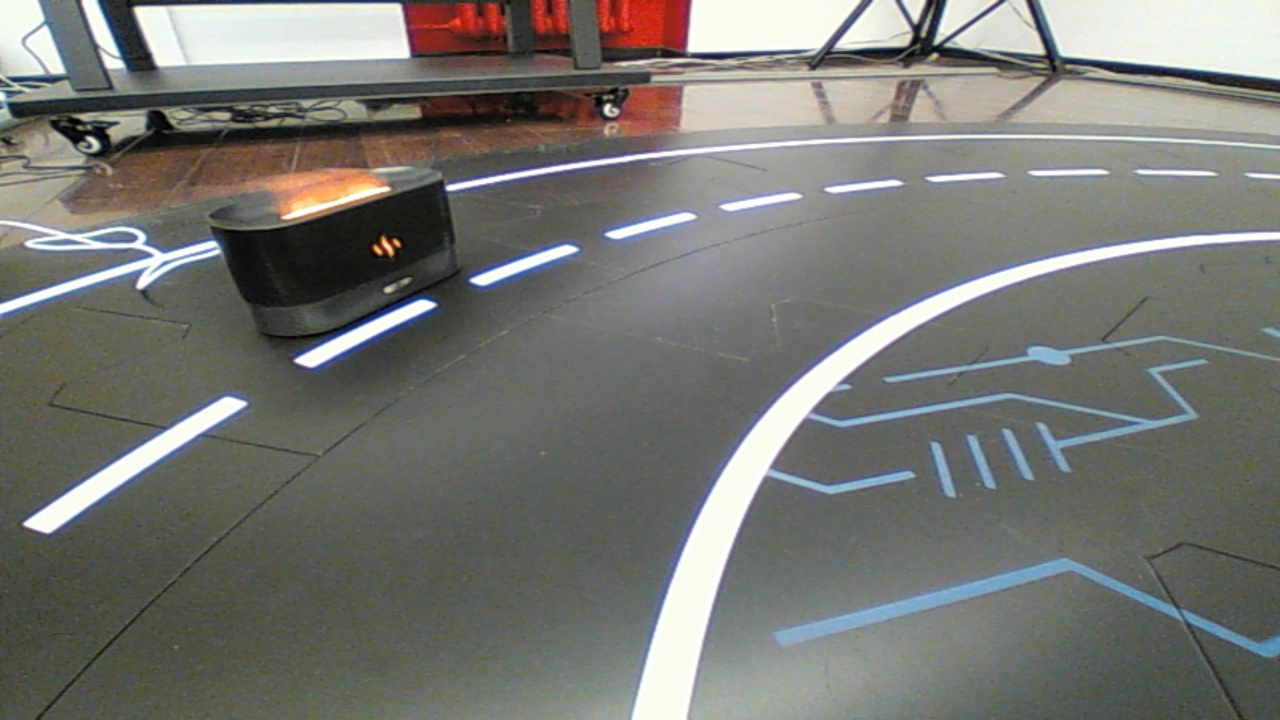Movement prohibition: (174, 158, 484, 353)
